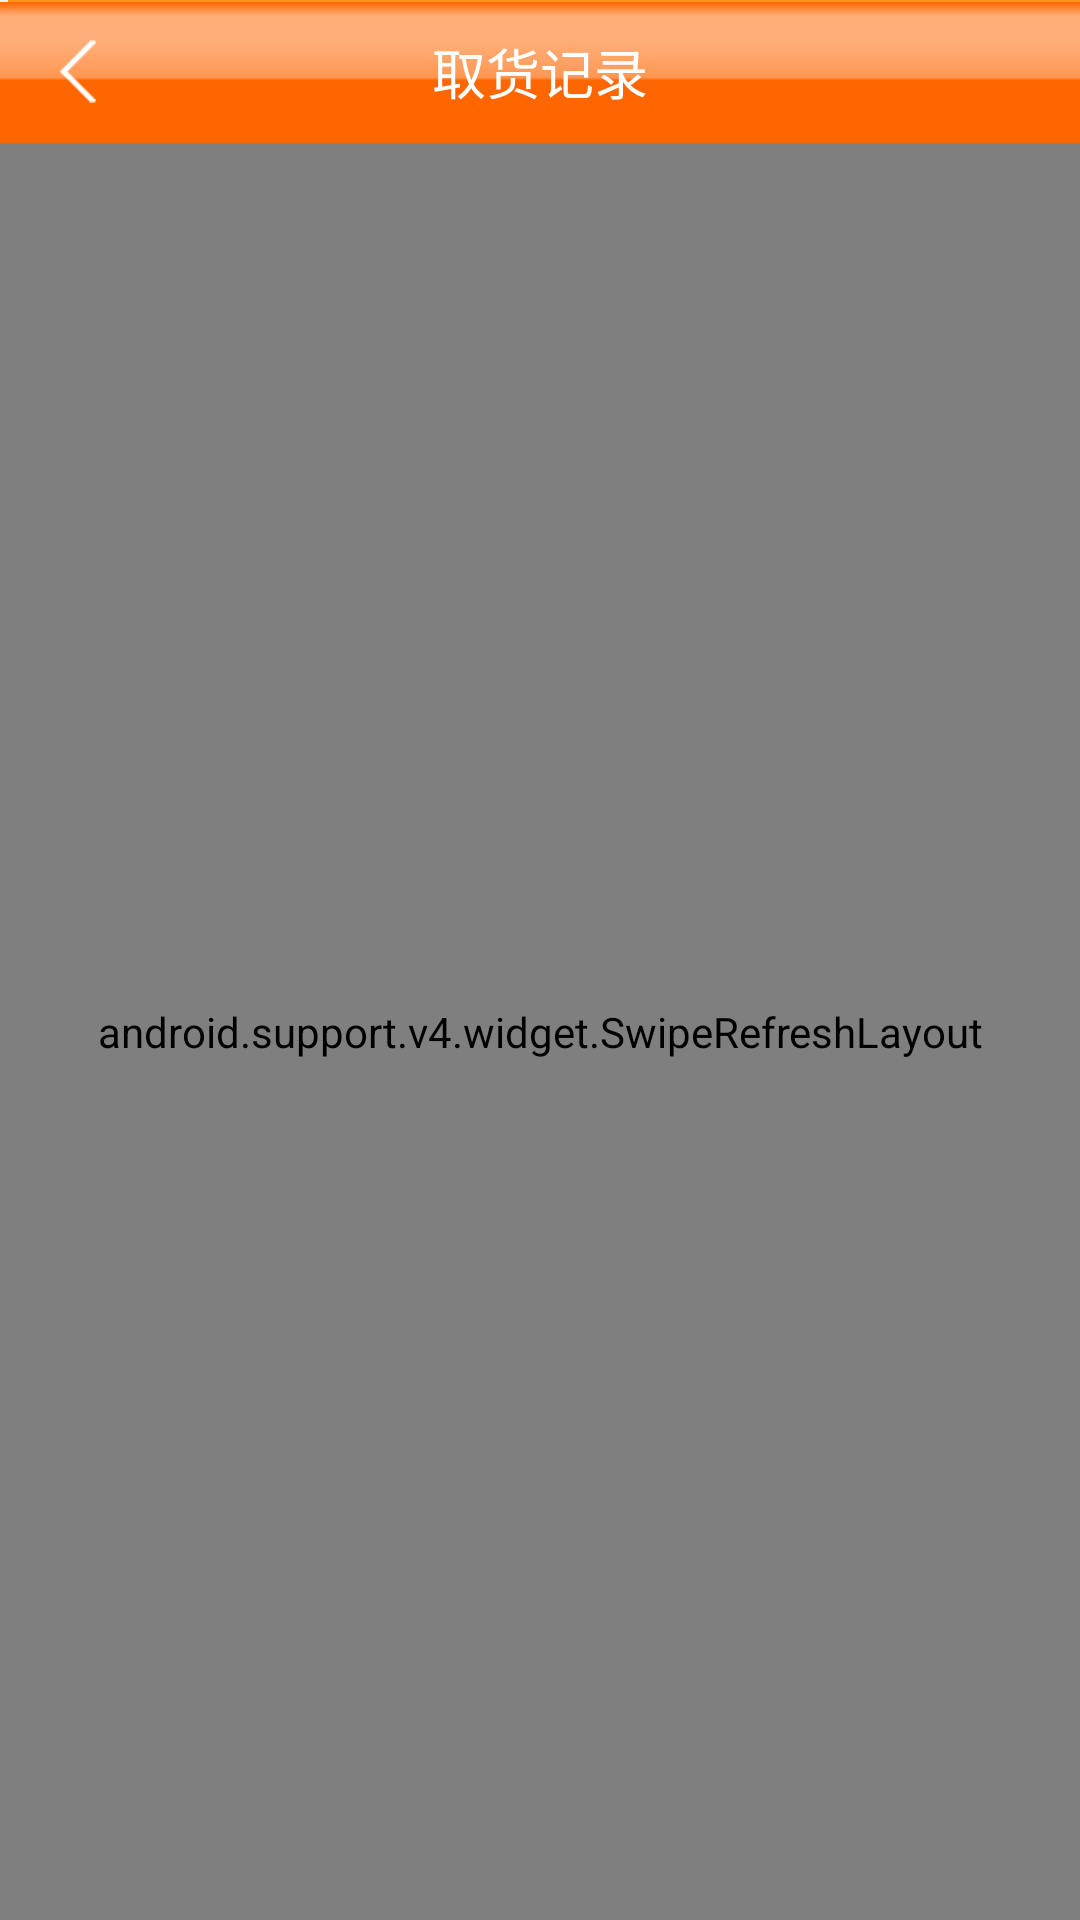

Where to tap for icons on this 1080w x 1920h app screen, as (x,y):
back: (78,71)
